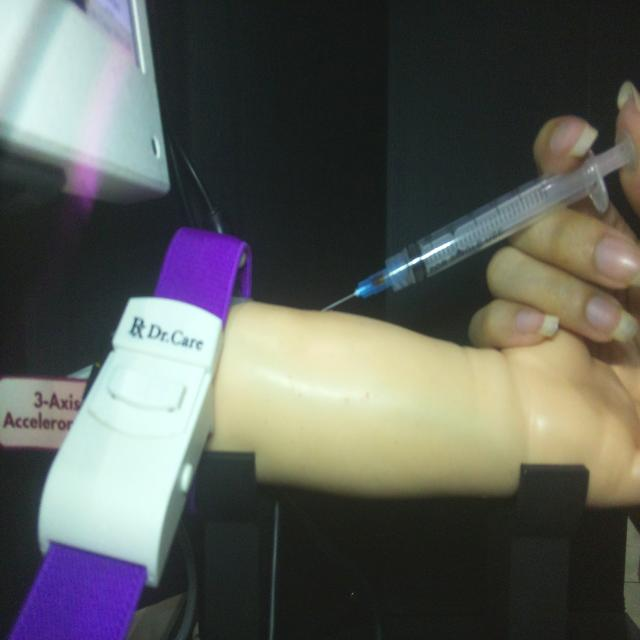18 degrees: (318, 129, 636, 314)
